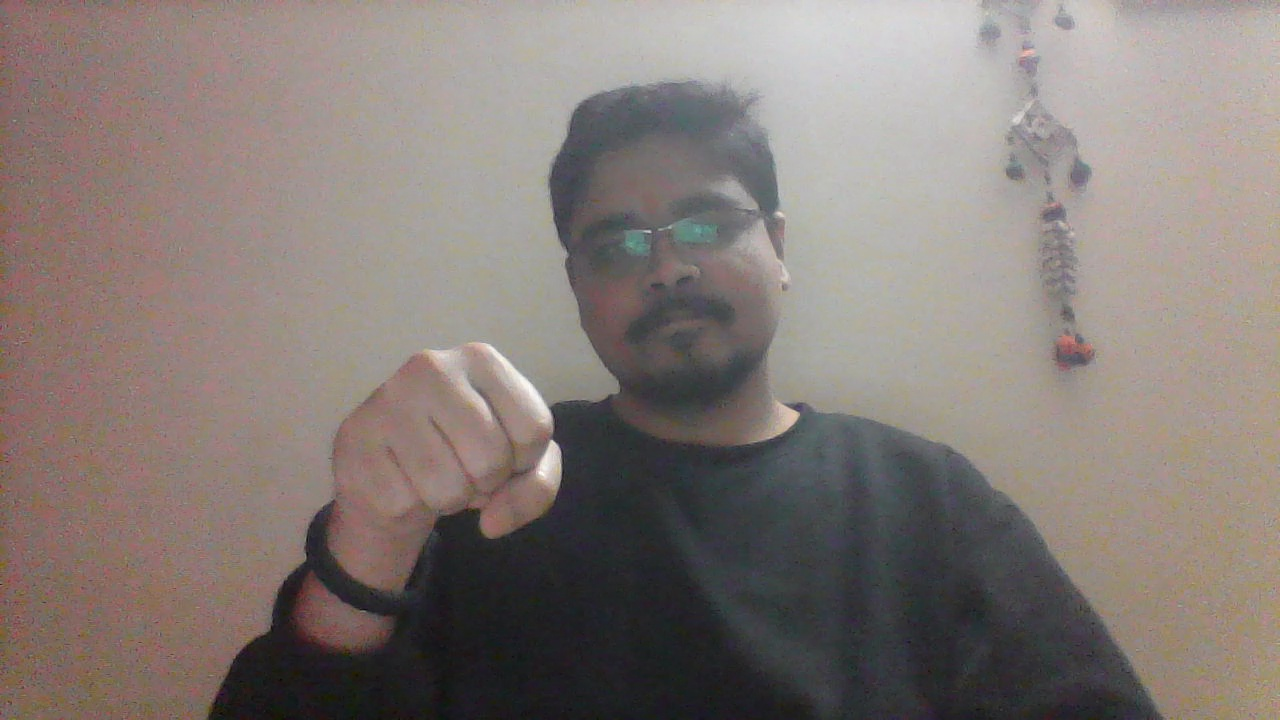Yes: (322, 334, 566, 568)
